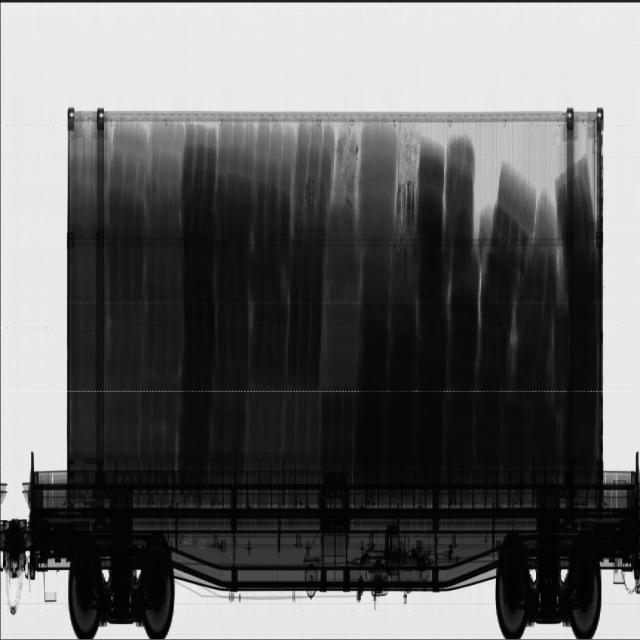clothes: (69, 124, 601, 469)
textiles: (332, 122, 420, 248), (480, 161, 555, 282)
